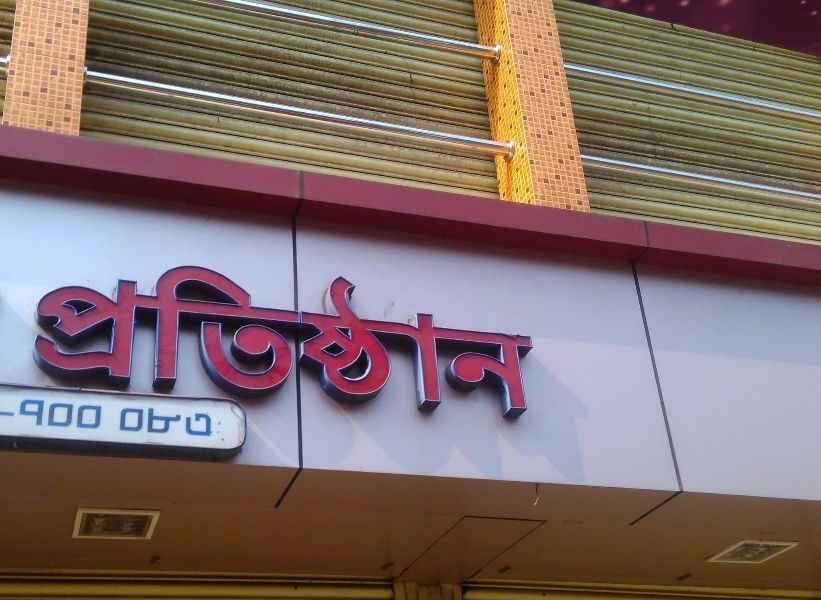text: (49, 244, 64, 427), (65, 244, 80, 427), (81, 244, 96, 427), (97, 244, 112, 427), (113, 244, 128, 427), (129, 244, 144, 427), (145, 244, 160, 427), (161, 244, 176, 427), (177, 244, 192, 427), (193, 244, 208, 427), (209, 244, 224, 427), (225, 244, 240, 427), (241, 244, 256, 427), (257, 244, 272, 427), (273, 244, 288, 427), (289, 244, 304, 427), (305, 244, 320, 427), (321, 244, 336, 427), (337, 244, 352, 427), (353, 244, 368, 427), (369, 244, 384, 427), (385, 244, 400, 427), (401, 244, 416, 427), (417, 244, 432, 427), (433, 244, 448, 427), (449, 244, 464, 427), (465, 244, 480, 427), (481, 244, 496, 427), (497, 244, 512, 427), (513, 244, 528, 427), (529, 244, 540, 427), (39, 244, 48, 427), (17, 398, 32, 440), (33, 398, 48, 440), (49, 398, 64, 440), (65, 398, 80, 440), (81, 398, 96, 440), (97, 398, 112, 440), (113, 398, 128, 440), (129, 398, 144, 440), (145, 398, 160, 440), (161, 398, 176, 440), (177, 398, 192, 440), (193, 398, 208, 440), (5, 398, 16, 440), (209, 398, 219, 440)
